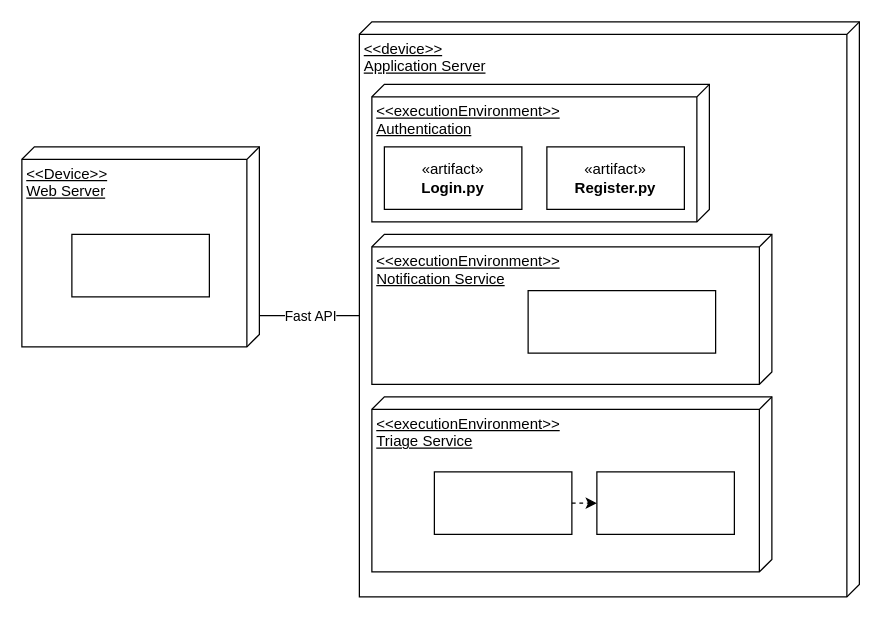
Image size: 881x619. Some labels were removed from this diagram. Each missing label, with the centre of its shape:
"«artifact» DisplayData.py" goes at pixel 502 502.
"«artifact» getTriageData.py" goes at pixel 665 502.
"«artifact» NotificationHandler.py" goes at pixel 621 321.
"«artifact» Website" goes at pixel 140 265.
